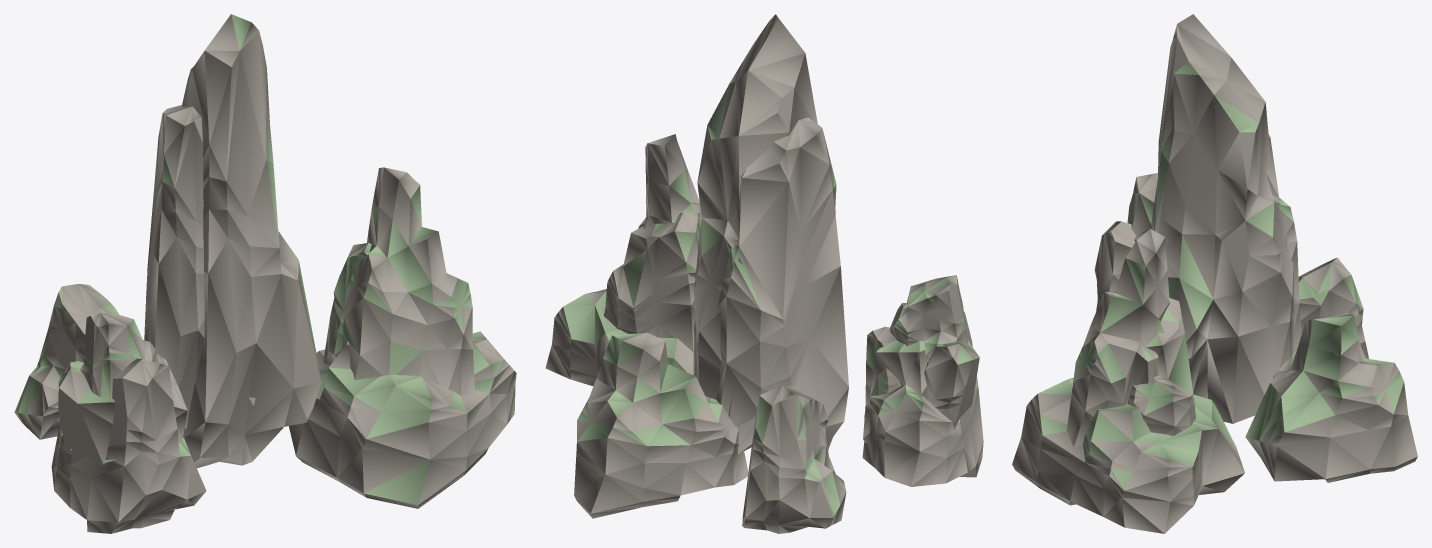
File: rock_cluster.glb
3 views of the same model, side by side, from view 1: azimuth 30°, elevation 25°; view 2: azimuth 150°, elevation 25°; view 3: azimuth 270°, elevation 25° (orthographic). The views are drawn at different scales.
Visible parts, largest first — view 1: rock_cluster; view 2: rock_cluster; view 3: rock_cluster.
Boxes of the visible parts, <box> form: rock_cluster: <box>14,14,516,533</box>; rock_cluster: <box>545,14,983,533</box>; rock_cluster: <box>1012,14,1417,533</box>.
Size of the model in its own units: 3.02 by 2.96 by 2.58.
